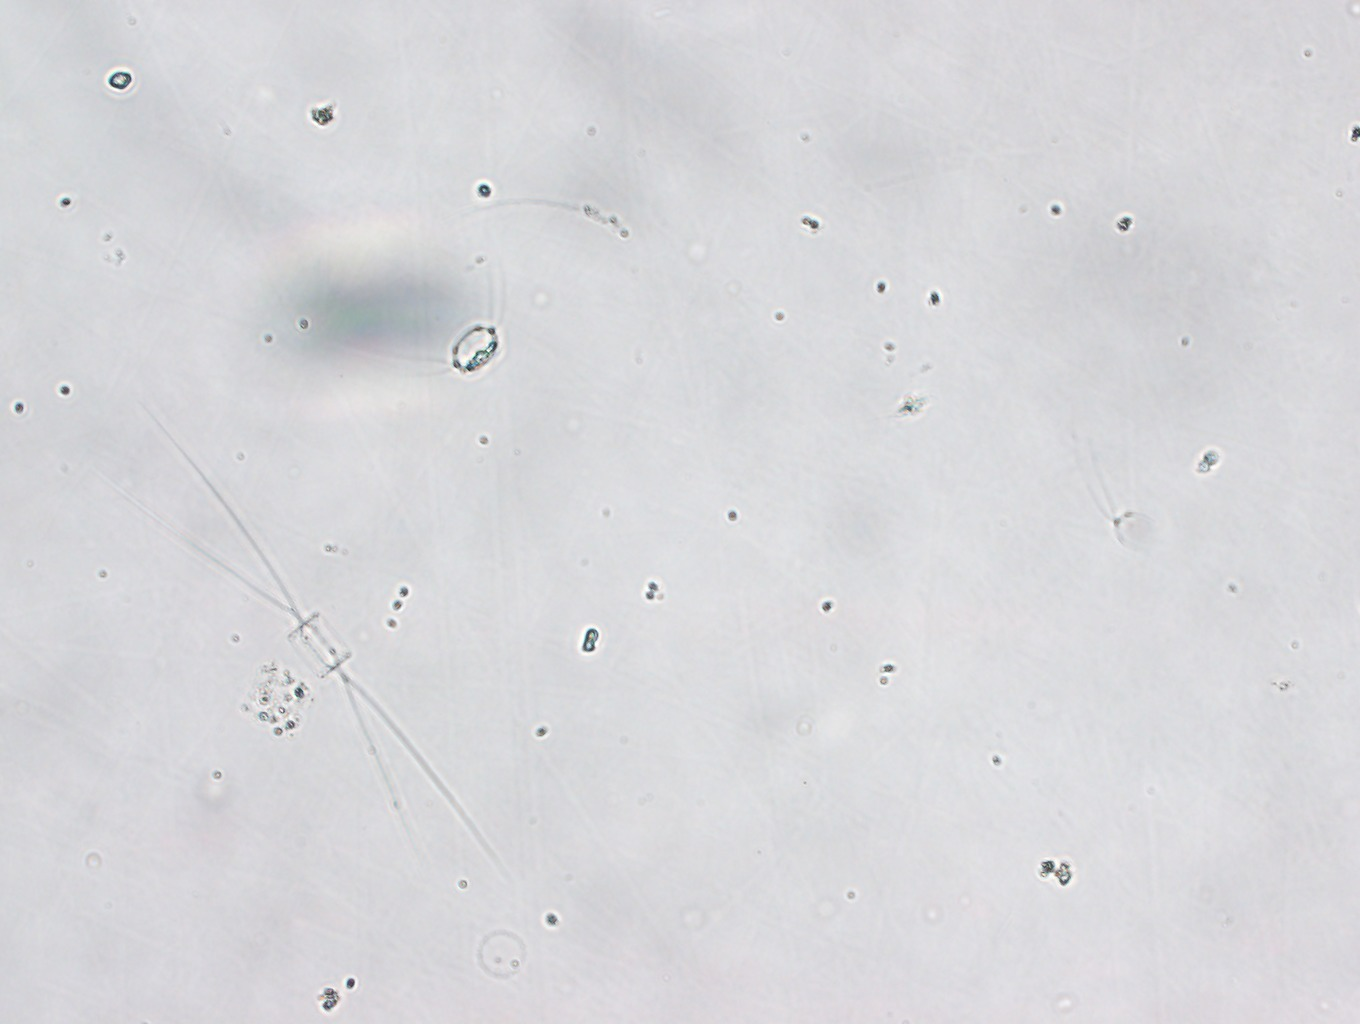chaetoceros: (131, 402, 521, 896), (364, 248, 504, 378)
